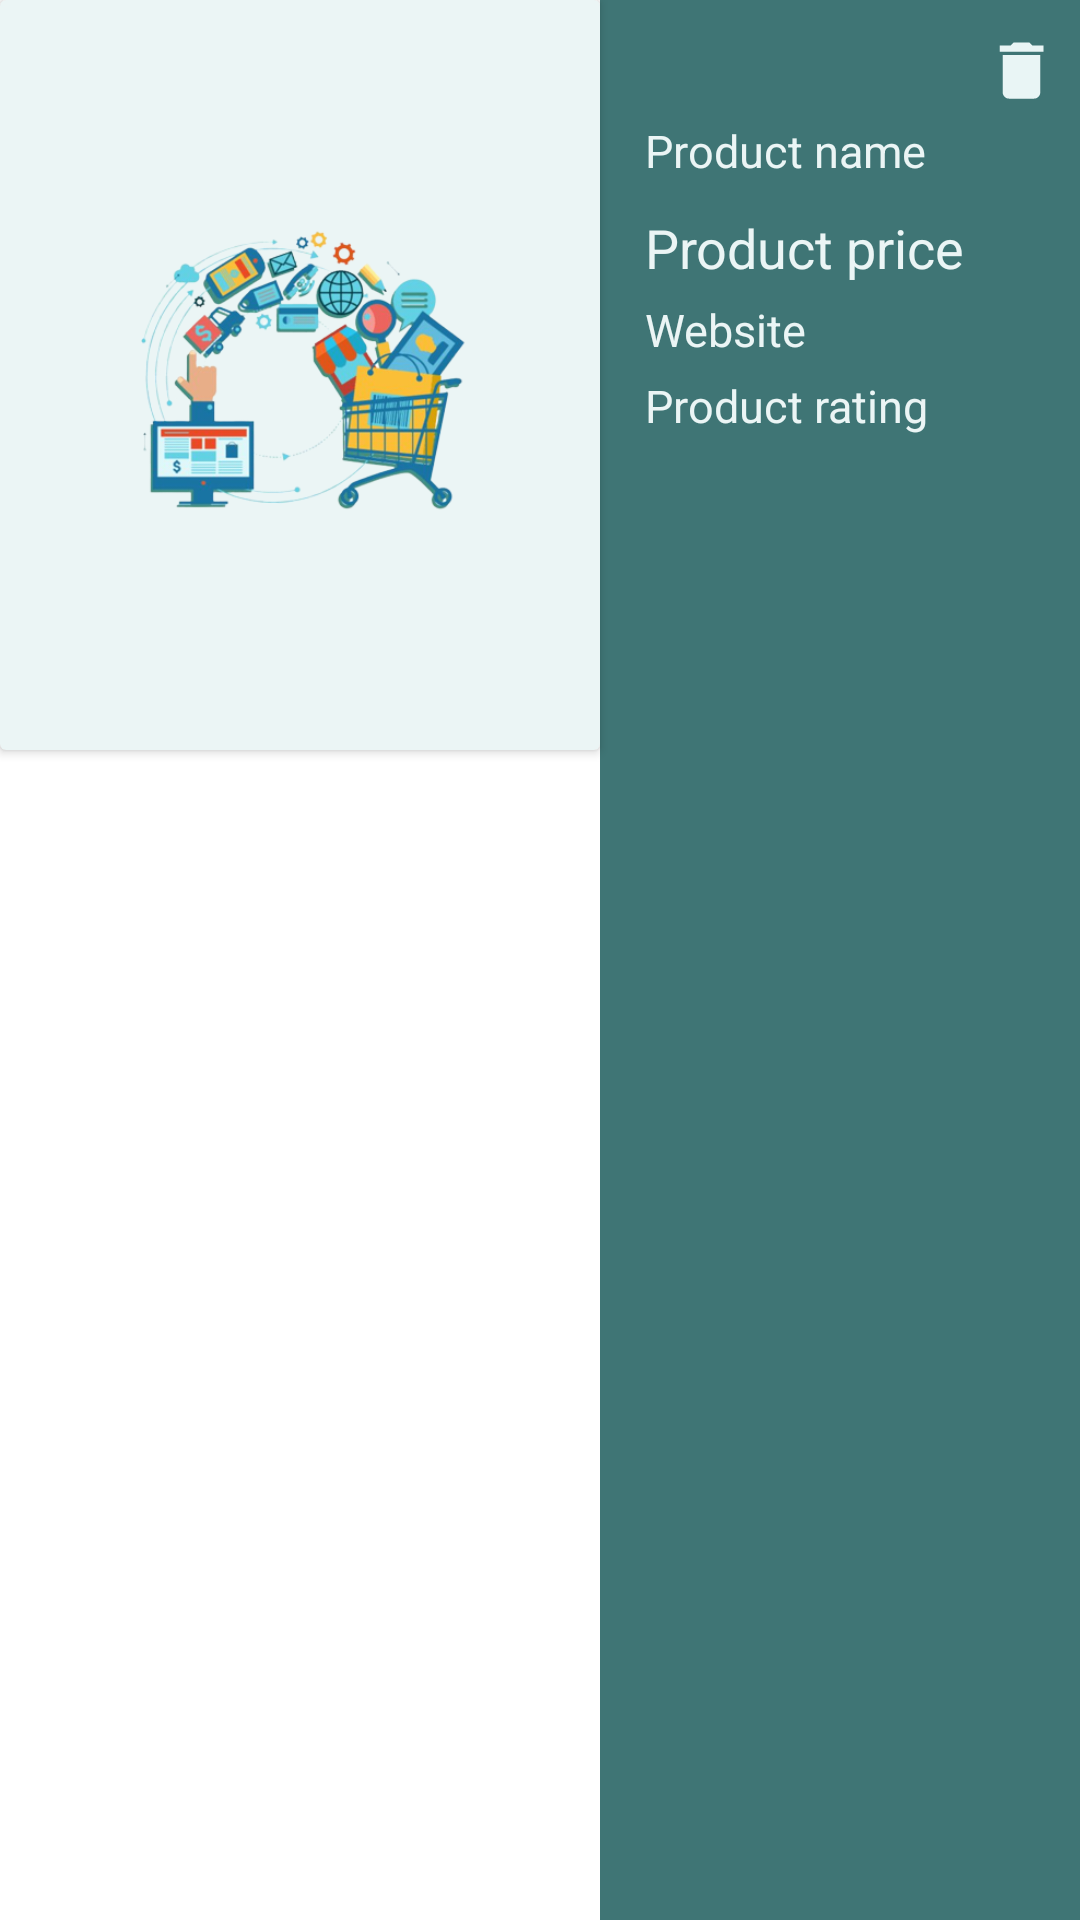

Screen size 1080w x 1920h. Icon name, then its box in pixels as (x1, y1, x2, y2):
delete: (999, 42, 1044, 99)
